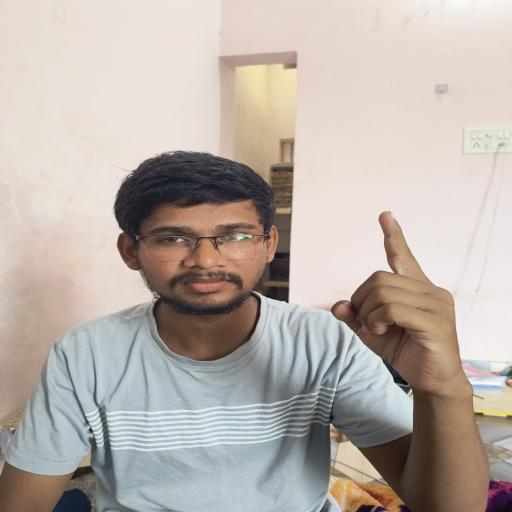What: (303, 194, 503, 424)
